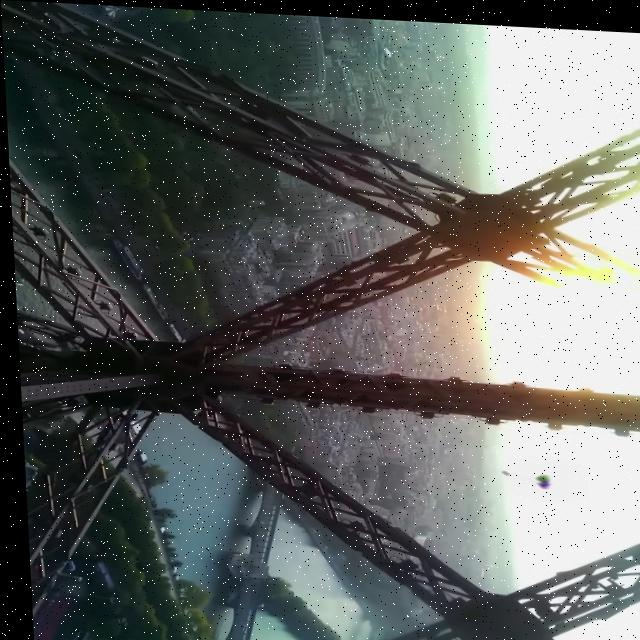balloon: (530, 475, 548, 484), (530, 468, 546, 477)
